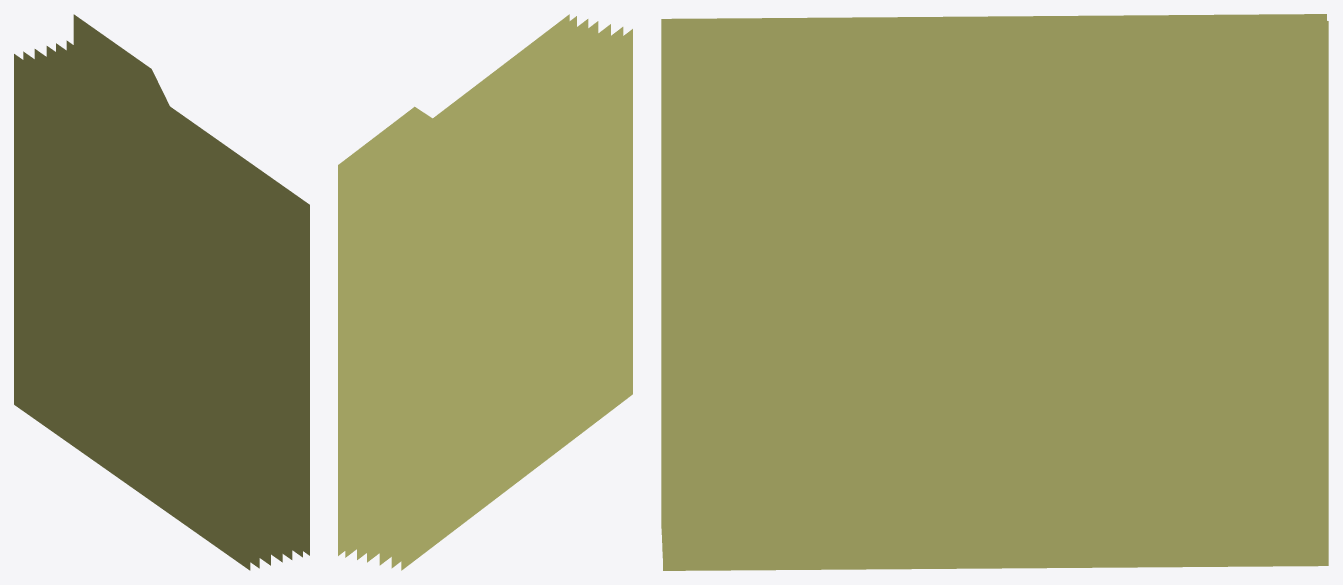
File: Cabinat_notes_v01_01_alsu.fbx
3 renders of one model, left to right at view 1: azimuth 30°, elevation 25°; view 2: azimuth 150°, elevation 25°; view 3: azimuth 270°, elevation 25°, orthographic. The views are drawn at different scales.
Visible parts, largest first — view 1: poly_slides_01; view 2: poly_slides_01; view 3: poly_slides_01.
Boxes of the visible parts, x1=… form: poly_slides_01: x1=14, y1=14, x2=309, y2=570; poly_slides_01: x1=338, y1=14, x2=632, y2=570; poly_slides_01: x1=661, y1=14, x2=1328, y2=570.
Size of the model in its own units: 6.18 by 33.16 by 36.79.
